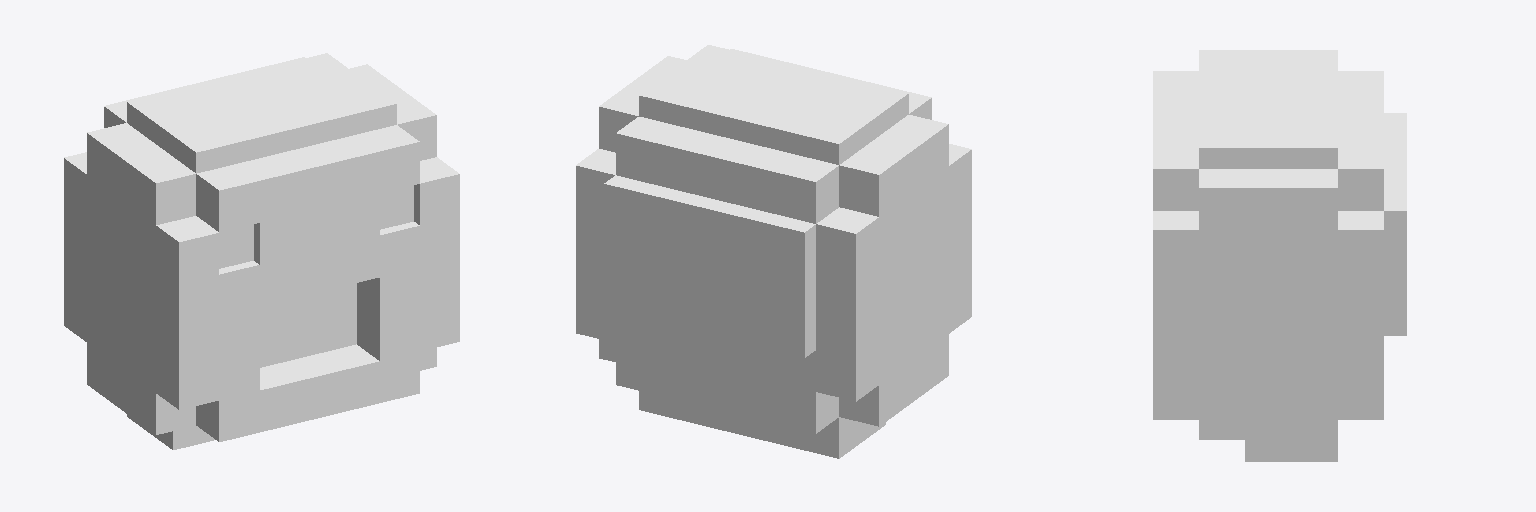
Rendered from humanoid-31.obj.
The picture shows the model from 3 angles: view 1: azimuth 30°, elevation 25°; view 2: azimuth 150°, elevation 25°; view 3: azimuth 270°, elevation 25°; orthographic projection.
Visible parts, largest first — view 1: humanoid-31; view 2: humanoid-31; view 3: humanoid-31.
Boxes of the visible parts, x1=… form: humanoid-31: x1=64, y1=53, x2=459, y2=449; humanoid-31: x1=576, y1=45, x2=971, y2=458; humanoid-31: x1=1153, y1=50, x2=1406, y2=461.
Size of the model in its own units: 28 by 30 by 22.